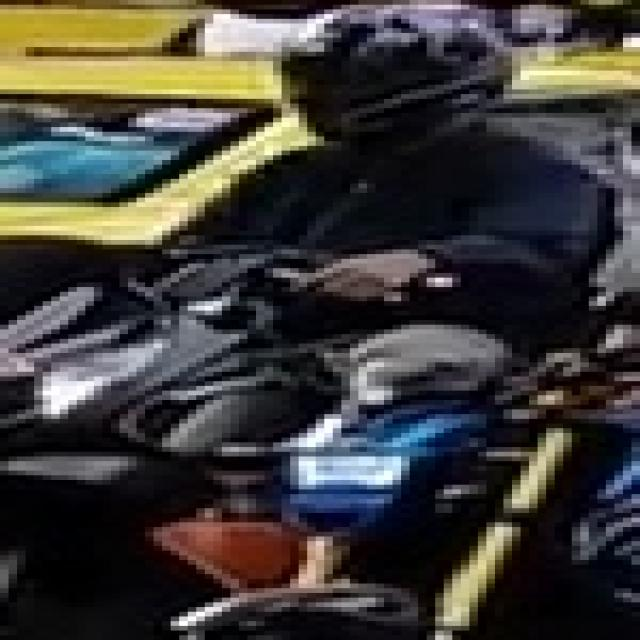door: (0, 0, 631, 635)
helmet: (273, 0, 512, 141)
